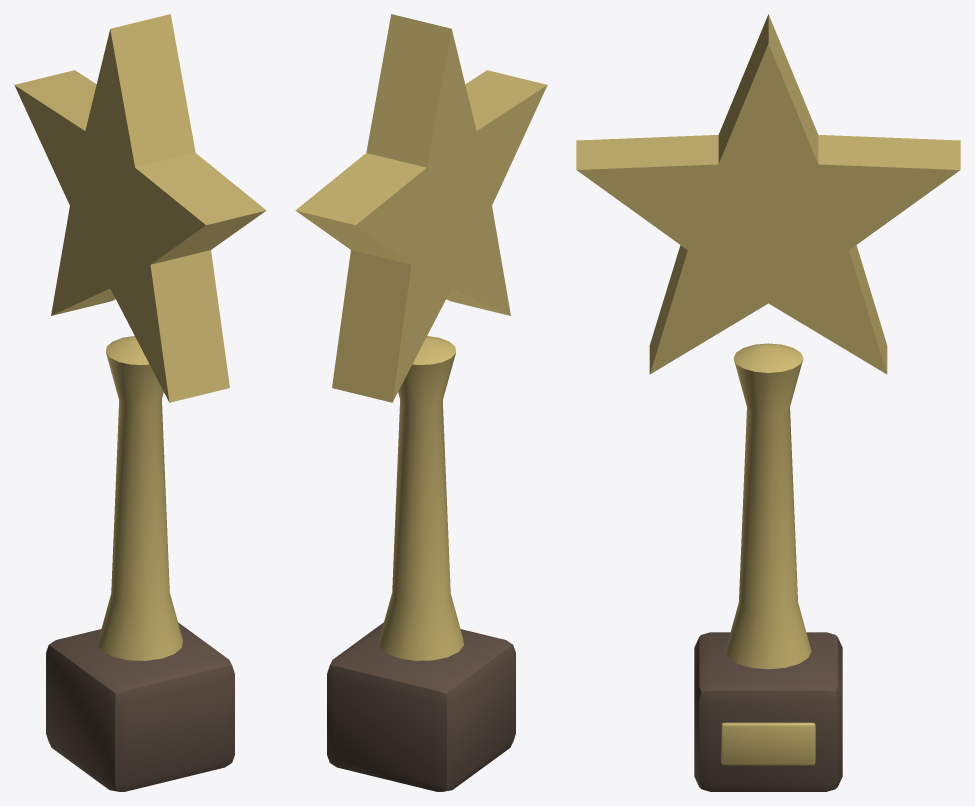
The model's file is SM_Trophy.glb.
3 views of the same model, side by side, from view 1: azimuth 30°, elevation 25°; view 2: azimuth 150°, elevation 25°; view 3: azimuth 270°, elevation 25° (orthographic).
Parts seen in each view (by area): view 1: SM_Trophy; view 2: SM_Trophy; view 3: SM_Trophy.
Part boxes in pixels (x1,y1,x2,y2): SM_Trophy: (14, 14, 266, 791); SM_Trophy: (295, 14, 547, 791); SM_Trophy: (576, 14, 960, 791).
Size of the model in its own units: 0.114 by 0.605 by 0.2853.
